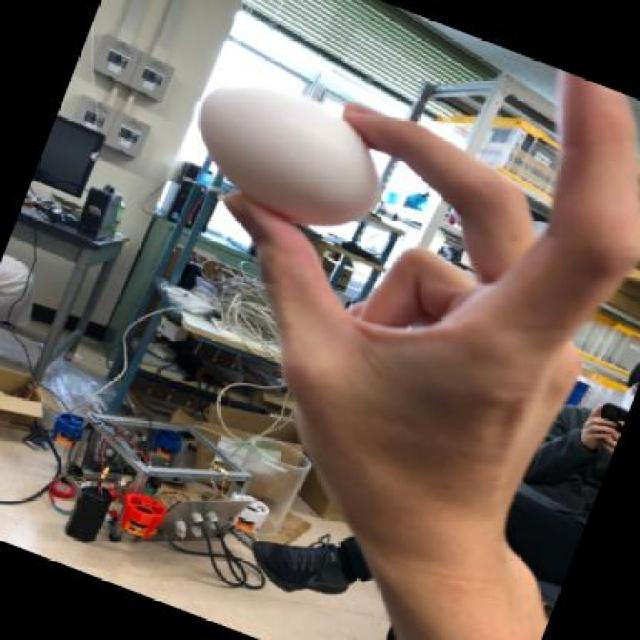egg: (199, 82, 379, 226)
